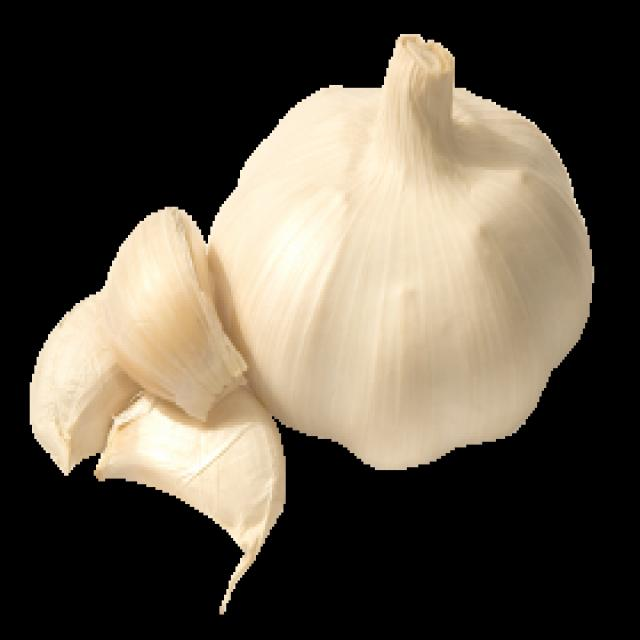garlic: (207, 59, 602, 482)
